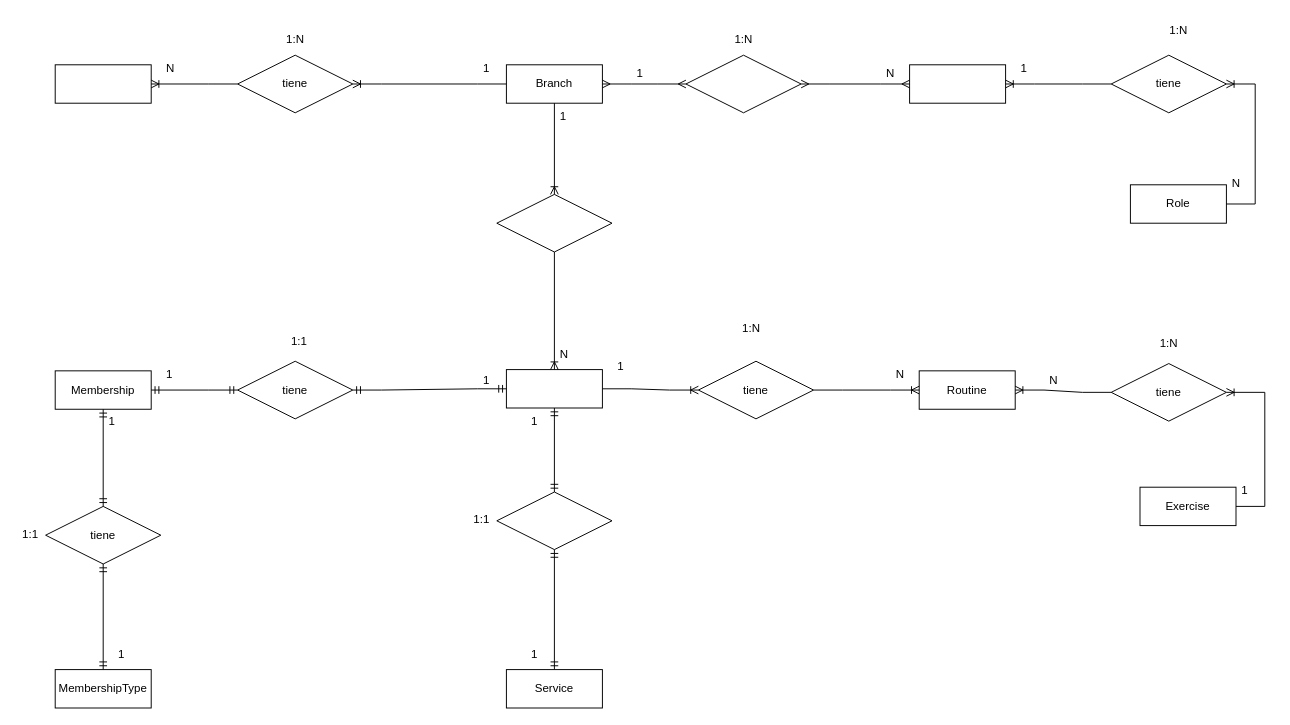
The diagram is 1290 pixels wide and 725 high, and some of its shapes have lost their labels. Here are the shapes that lost their labels. From the top down, the centre of each, then its label:
At point 102,83: "ExerciseMachine".
At point 743,83: "trabaja".
At point 957,83: "Employee".
At point 554,222: "inscrito".
At point 553,388: "Client".
At point 554,520: "paga".
